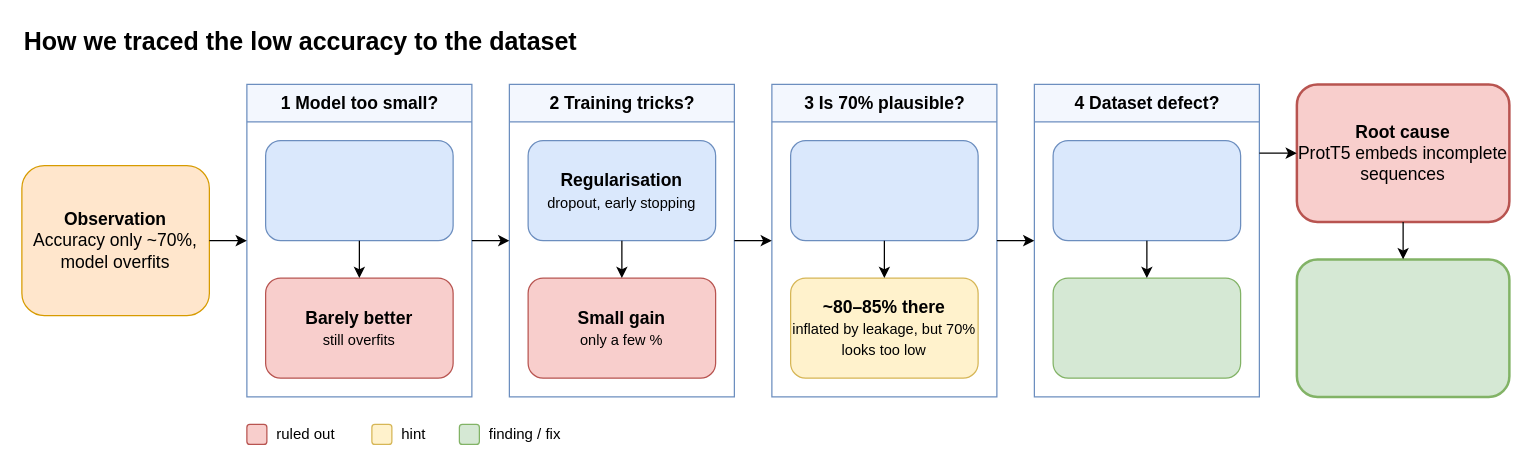
The diagram is 1533 pixels wide and 468 high, and some of its shapes have lost their labels. The centre of each missing label's shape, as x and y in pixels:
"Deeper classifier more MLP layers" goes at point 358,190.
"Earlier balanced set ~1,600 seqs, random functional proteins, no MMseqs2 split" goes at point 883,190.
"Fix Fetch full-length sequences, re-embed, retrain" goes at point 1402,328.
"Inspect BLAST output what is stored per hit?" goes at point 1146,190.
"Only the aligned fragment not the full sequence" goes at point 1146,327.
